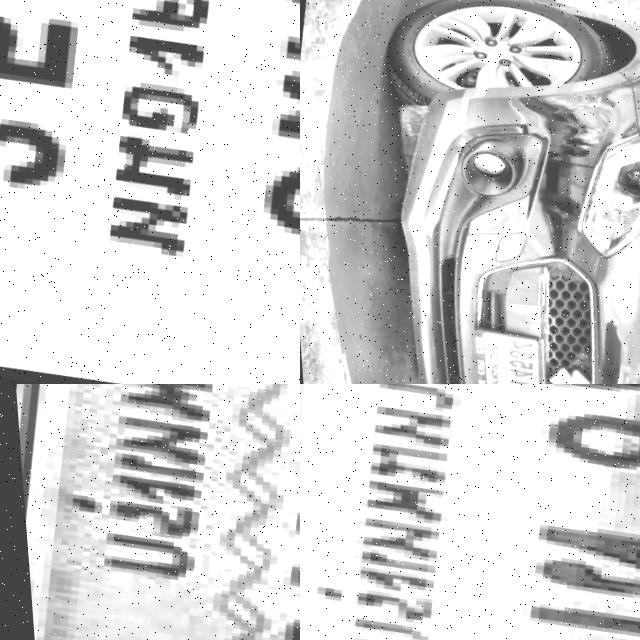license-plate: (0, 0, 300, 384), (300, 384, 640, 640), (0, 384, 300, 640), (449, 323, 553, 384)
